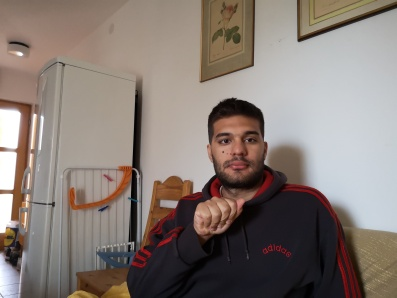A: (192, 196, 246, 237)
